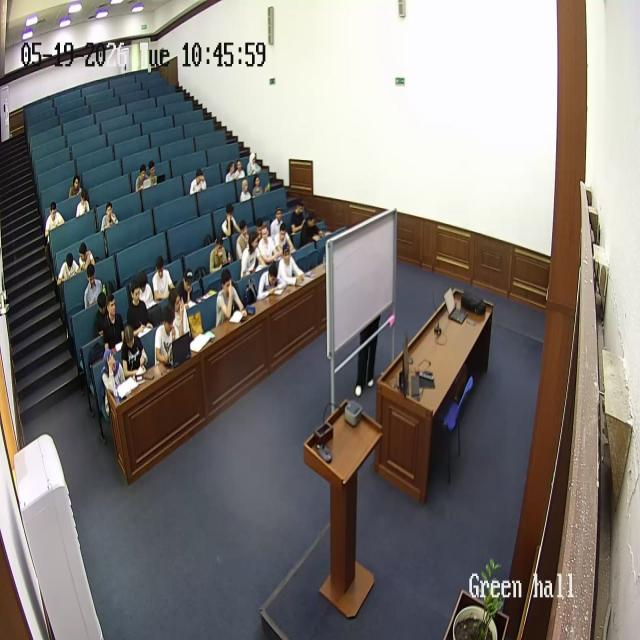person: (355, 314, 381, 396), (214, 268, 244, 328), (101, 346, 128, 410), (121, 323, 149, 378), (153, 308, 179, 366), (127, 282, 153, 338), (101, 292, 125, 350), (276, 243, 306, 289), (256, 260, 284, 303), (167, 287, 190, 339), (240, 230, 262, 278), (152, 256, 174, 303), (82, 263, 104, 309), (256, 226, 280, 265), (44, 201, 66, 243), (220, 204, 238, 254), (271, 221, 295, 257), (56, 250, 80, 286), (179, 268, 199, 310), (301, 213, 325, 248), (208, 236, 230, 274), (137, 270, 156, 310), (270, 204, 288, 242), (76, 241, 96, 275), (235, 219, 251, 261), (290, 200, 307, 239), (100, 200, 119, 233), (75, 186, 91, 218), (190, 168, 207, 196), (134, 164, 150, 191), (68, 174, 84, 198), (251, 172, 265, 198), (238, 177, 252, 202), (224, 159, 238, 184), (146, 159, 158, 187), (247, 152, 261, 176), (234, 159, 246, 181)
